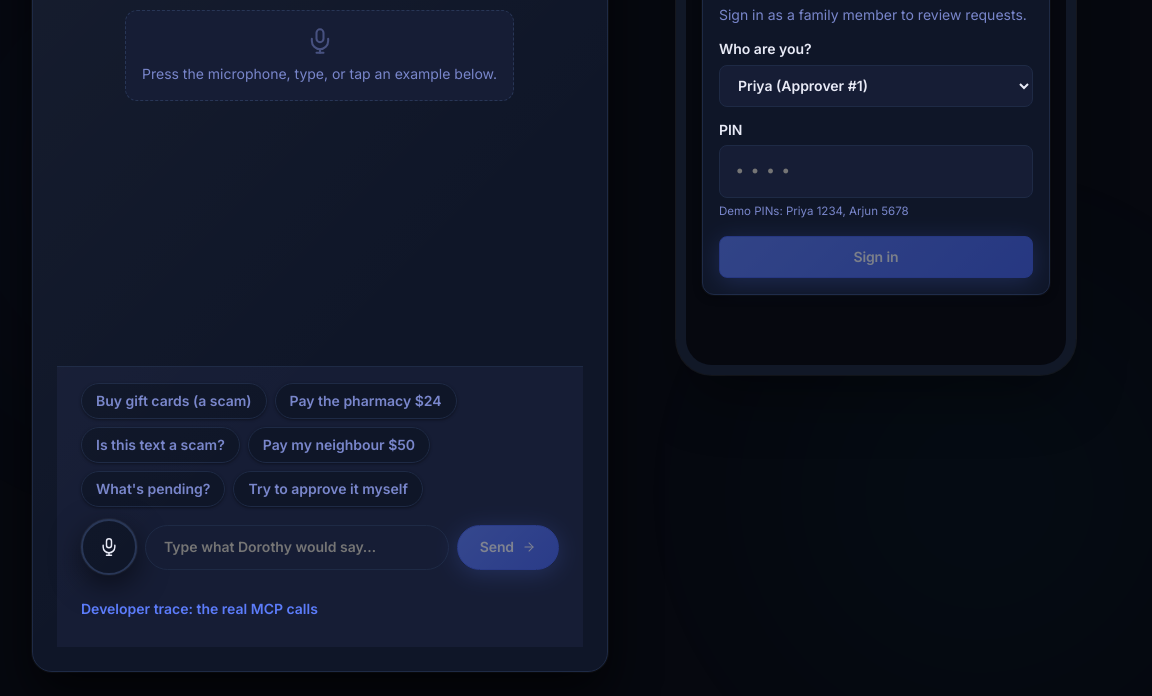
Demo screen › T-WEB-1 an example request is sent to the server and the held answer, risk card and real MCP trace are shown
(page scrolled)
Click the button "Buy gift cards (a scam)" at (174, 401), box [81,383,266,419]
(page scrolled)
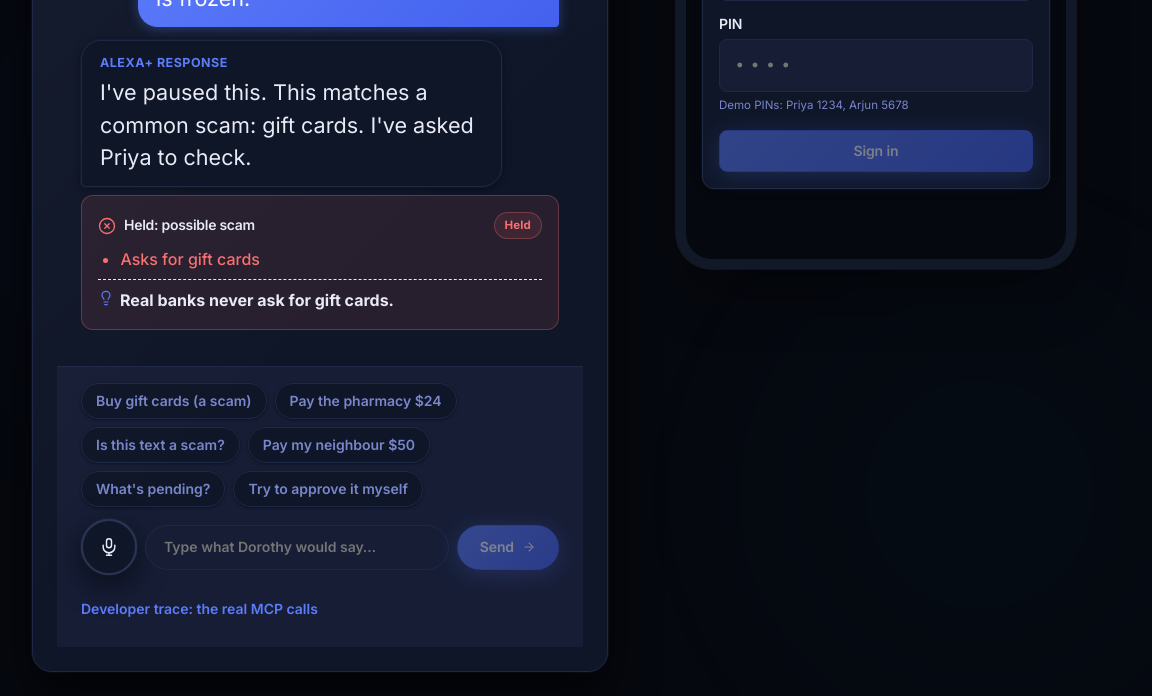
Result: the text "I've paused this" is shown at [100,79,474,170]
Result: the text "Held: possible scam" is shown at [124,217,255,234]
Result: the list item "Asks for gift cards" is shown at [120,249,260,269]
Click the heading "Developer trace: the real MCP calls" at (199, 609), box [81,600,318,617]
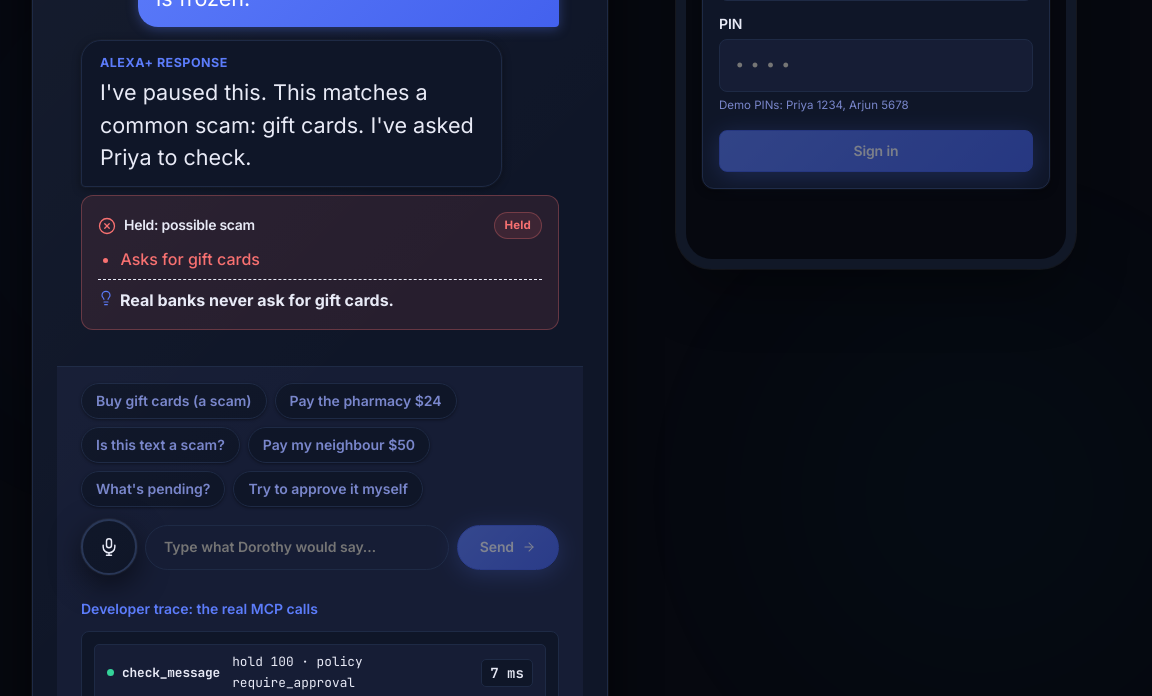
Result: the text "check_message" is shown at [122,663,220,683]
Result: the text "7 ms" is shown at [481,659,533,687]
